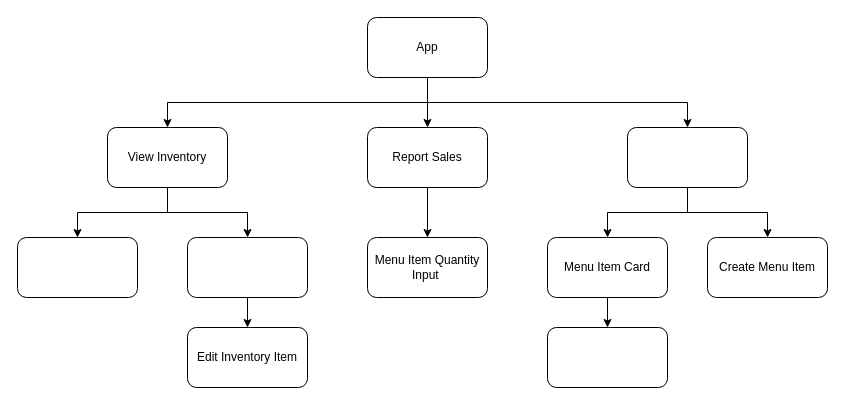
Some shapes in this 845 by 405 pixel diagram are drawn without their labels. Each missing label, with the centre of its shape:
Create Inventory Item: (77,267)
Edit Menu Item: (607,357)
Inventory Item Card: (247,267)
View Menu Items: (687,157)
